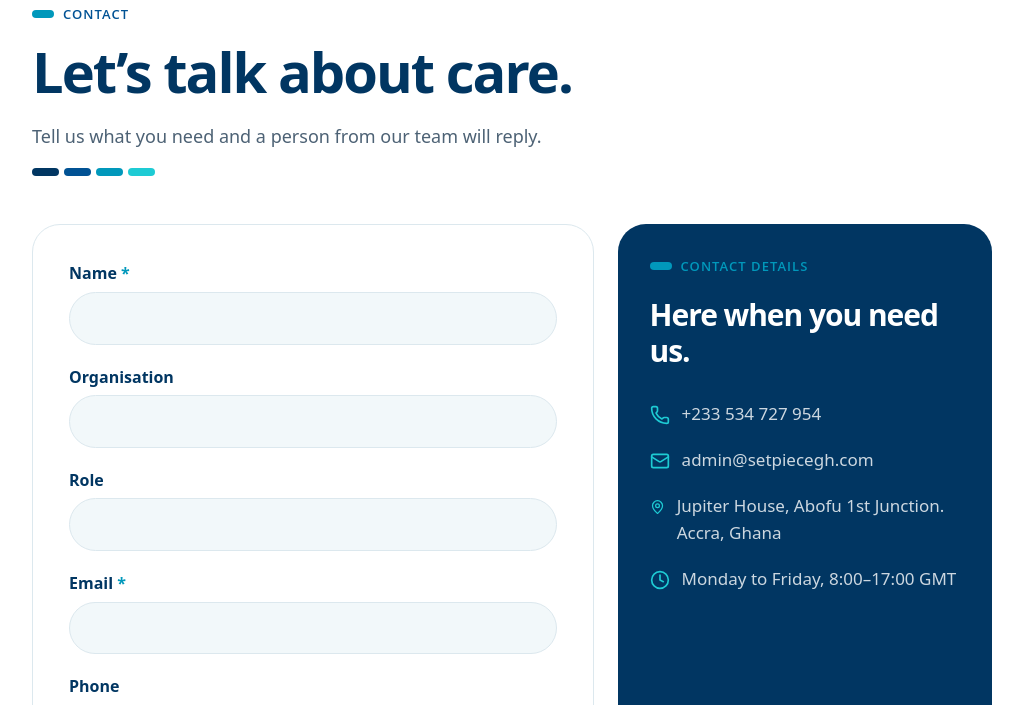
it: Contact form › rejects an invalid email
In the field labelled "Name *": (313, 318) [69,292,557,344], type "Ama Mensah"
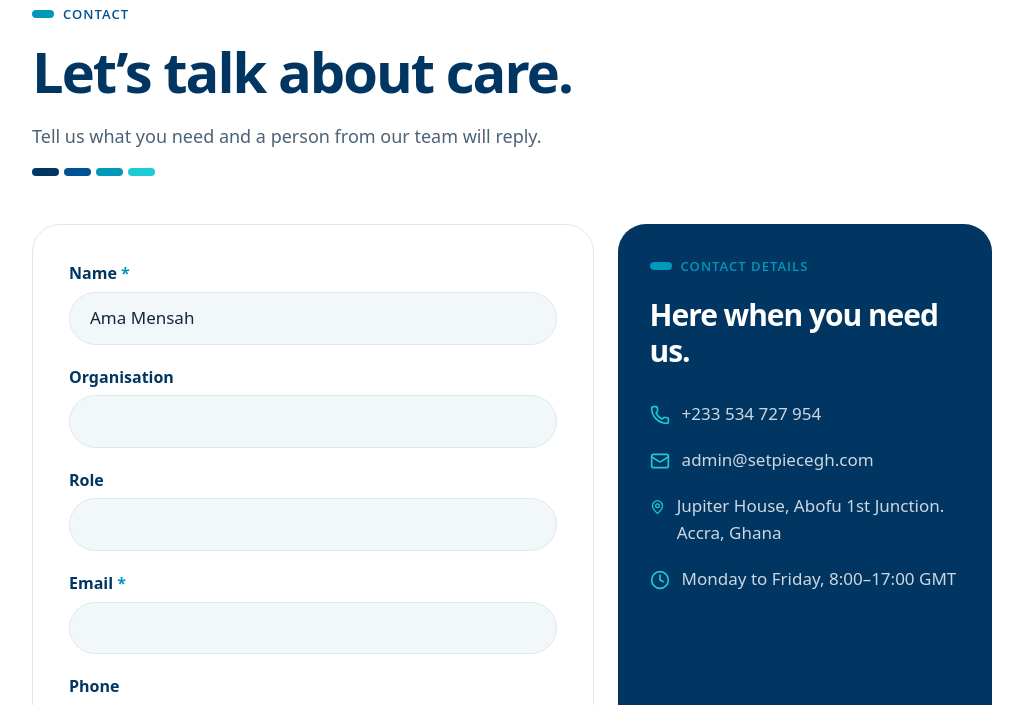
In the field labelled "Email *": (313, 628) [69,602,557,654], type "not-an-email"
(page scrolled)
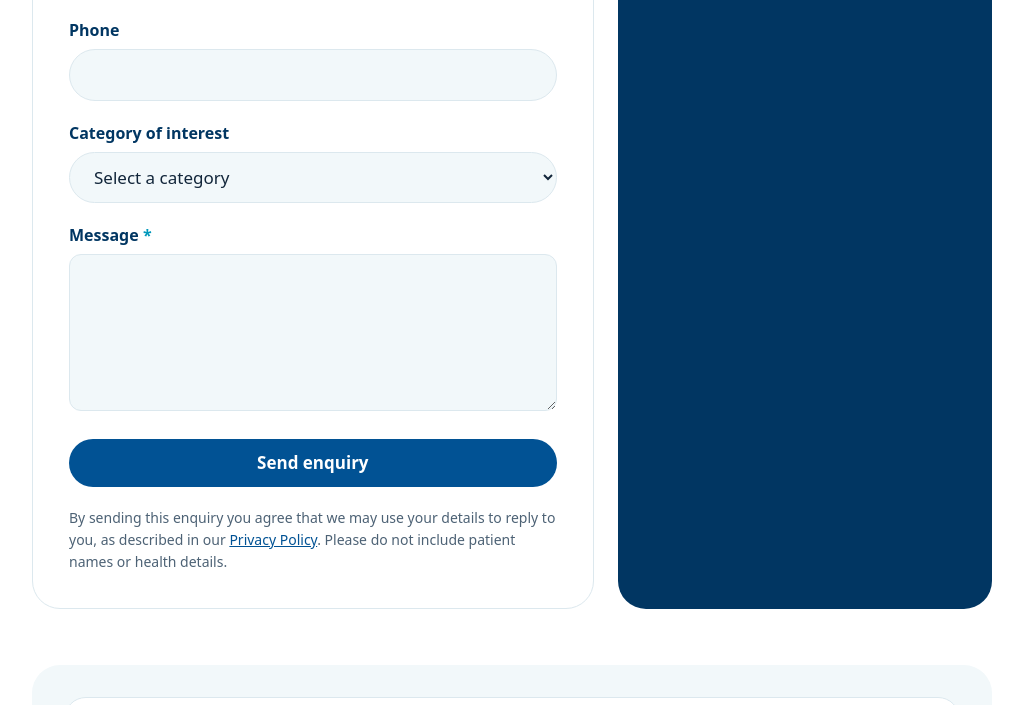
In the text box labelled "Message *": (313, 333) [69,254,557,411], type "Please quote 20 pouches."
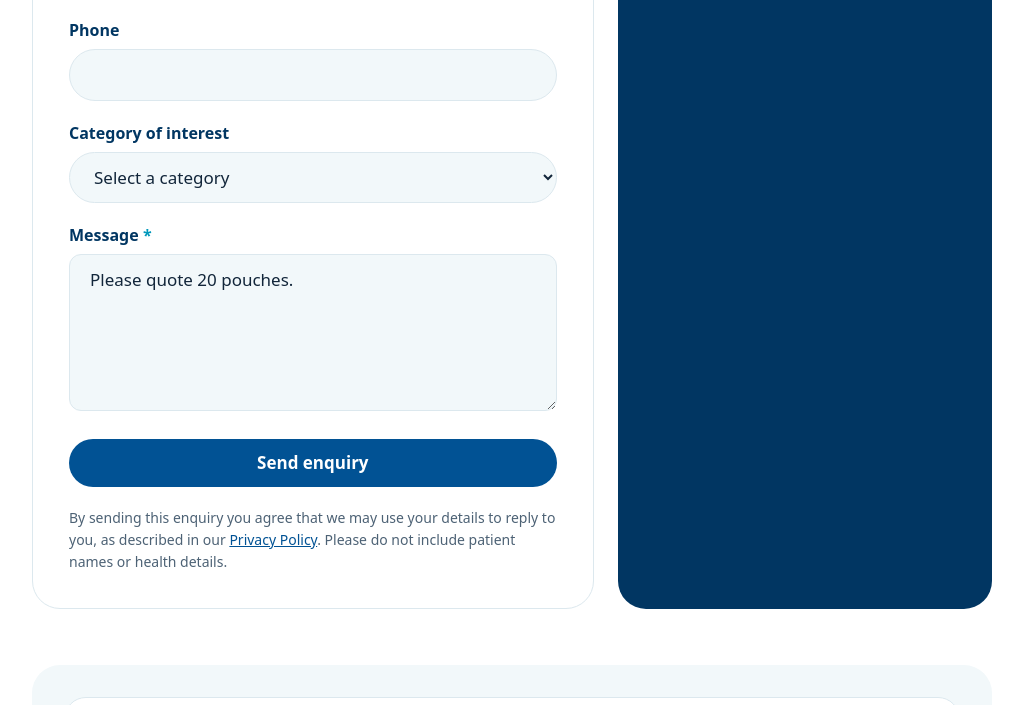
Click the button "Send enquiry": (313, 463) [69,439,557,487]
(page scrolled)
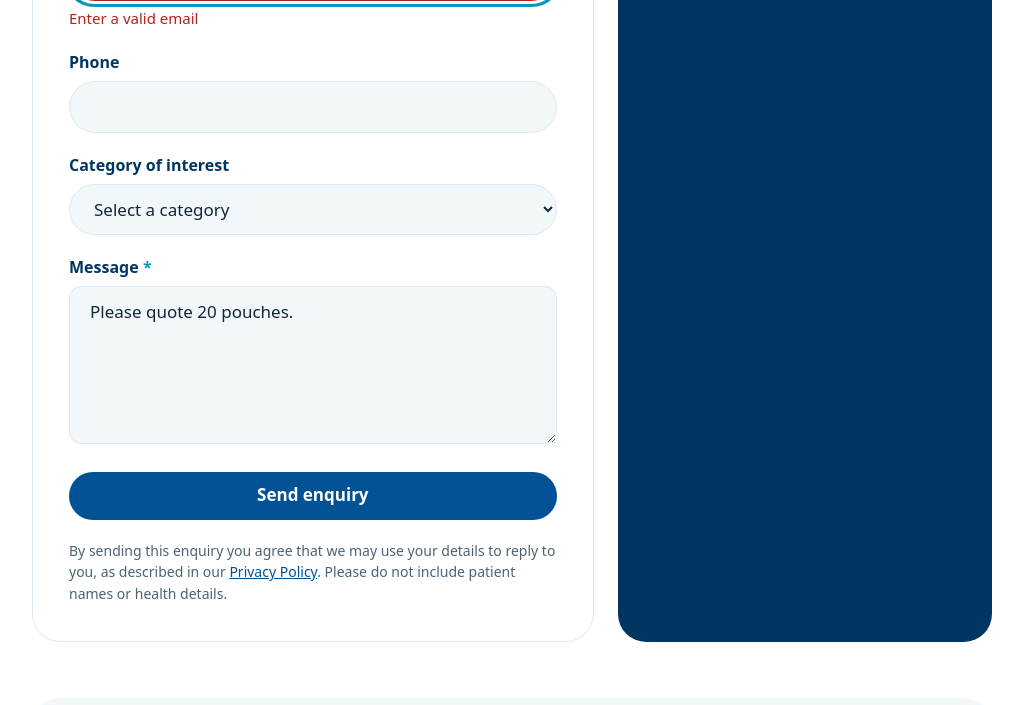
Check: the text "Enter a valid email" is shown, box [69,8,198,28]
